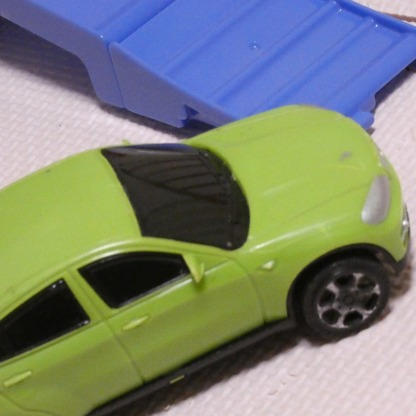car: (0, 104, 412, 415)
